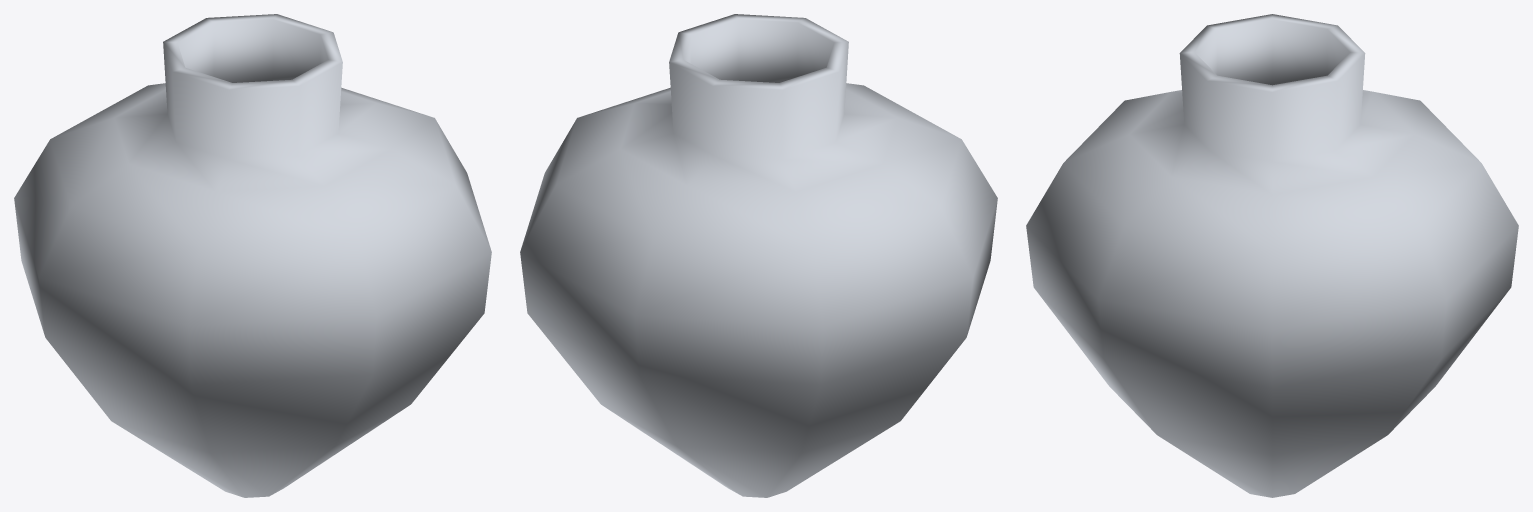
The model's file is bottle_glassware_pear_shaped_flask_medium_003.glb.
The picture shows the model from 3 angles, left to right: view 1: azimuth 30°, elevation 25°; view 2: azimuth 150°, elevation 25°; view 3: azimuth 270°, elevation 25°; orthographic projection.
Parts seen in each view (by area): view 1: bottle_glassware_pear_shaped_flask_medium.003; view 2: bottle_glassware_pear_shaped_flask_medium.003; view 3: bottle_glassware_pear_shaped_flask_medium.003.
Part boxes in pixels (<box>): bottle_glassware_pear_shaped_flask_medium.003: <box>14,14,491,497</box>; bottle_glassware_pear_shaped_flask_medium.003: <box>520,14,997,497</box>; bottle_glassware_pear_shaped_flask_medium.003: <box>1026,14,1518,497</box>.
Bounding box in the file's own units: 13.12 × 12.7 × 13.12.
Materials: 1 (1 with a texture image).
